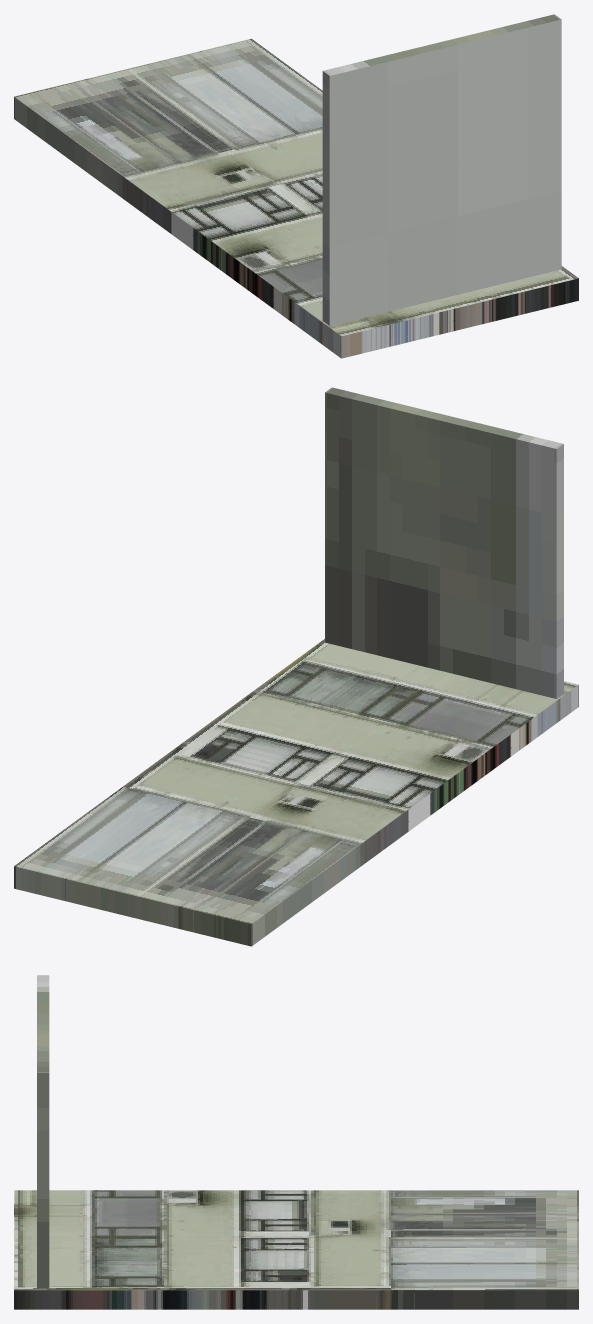
The model's file is 070_lowriseWall.gltf.
The picture shows the model from 3 angles, top to bottom: view 1: azimuth 30°, elevation 25°; view 2: azimuth 150°, elevation 25°; view 3: azimuth 270°, elevation 25°; orthographic projection. The views are drawn at different scales.
Visible parts, largest first — view 1: lowriseWall; view 2: lowriseWall; view 3: lowriseWall.
Part boxes in pixels (x1=…): lowriseWall: x1=14, y1=14, x2=578, y2=358; lowriseWall: x1=14, y1=387, x2=578, y2=946; lowriseWall: x1=14, y1=975, x2=578, y2=1309.
Size of the model in its own units: 4.09 by 4.49 by 9.77.
Materials: 1 (1 with a texture image).
